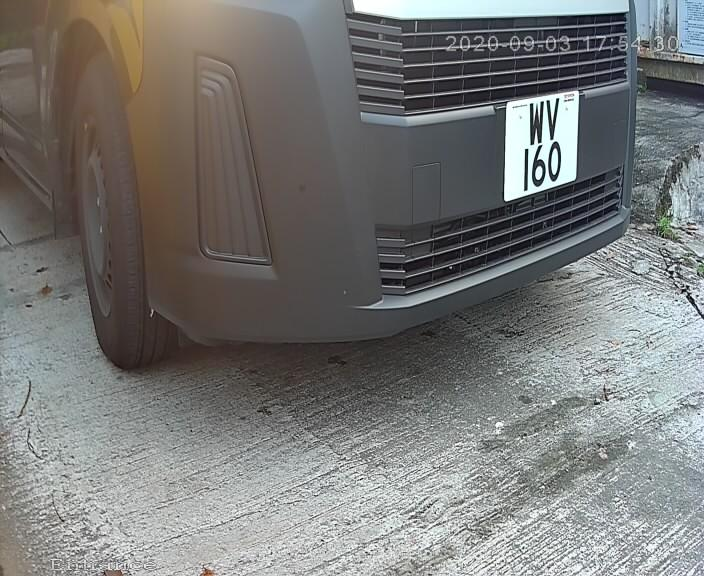License Plate: (494, 75, 588, 211)
